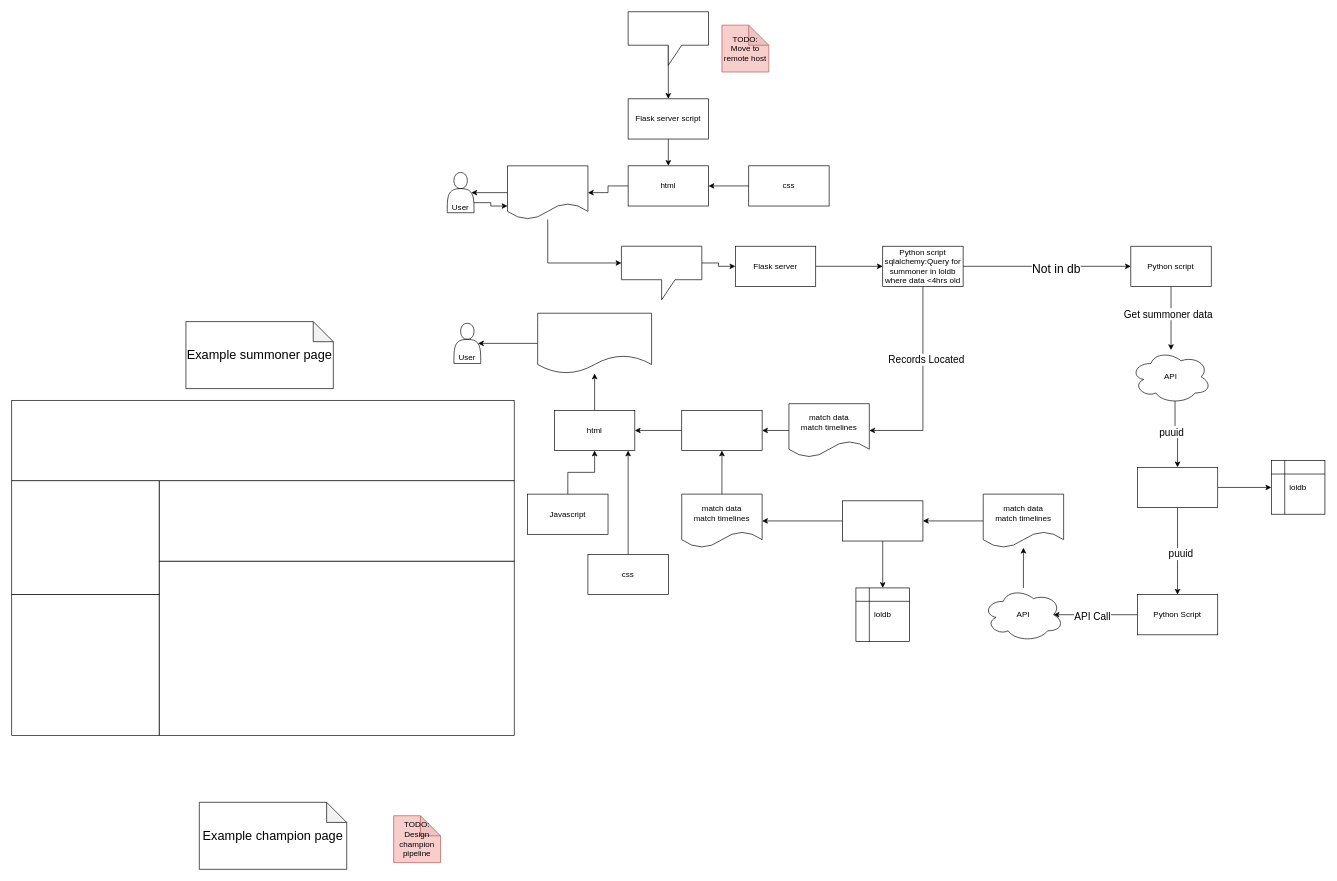
This 1337x881 diagram has some shape labels left out. The shapes that lost their labels are listed below. From the top down, each one's centre as x and y in pixels, then its label:
pixel 668 38: User visits http://localhost:5000
pixel 547 192: webpage textInput box http://localhost:5000
pixel 661 273: User inputs summoner name e.g. "The Steina"
pixel 594 343: webpage http://localhost:5000/summoner
pixel 262 440: Player Stats, Data
pixel 721 430: flask script
pixel 1177 487: Python script sqlalchemy:update loldb with puuid
pixel 85 537: Rank/League Data
pixel 336 520: Performance Data
pixel 882 520: Python script sqlalchemy:write data to loldb
pixel 85 664: Champion Data
pixel 336 647: Recent Match Data
